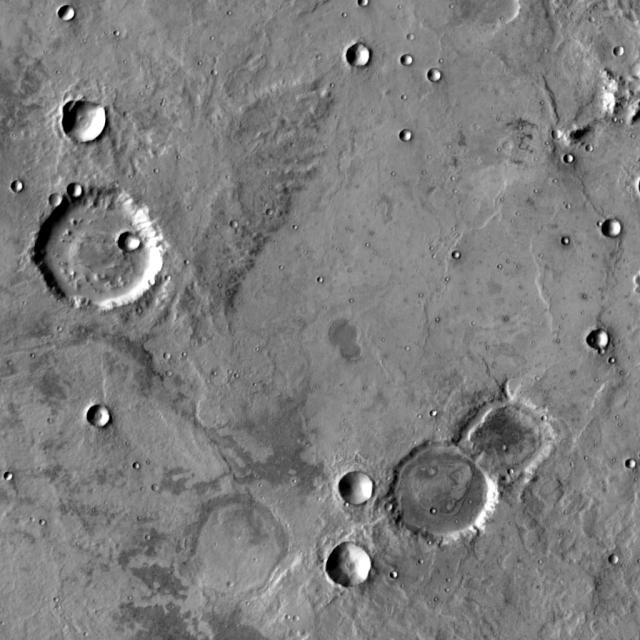crater: (43, 189, 171, 312), (395, 445, 503, 548), (194, 496, 302, 599), (464, 397, 558, 487), (334, 544, 380, 588), (70, 102, 114, 144), (469, 0, 528, 31), (347, 473, 381, 506), (336, 320, 366, 350), (353, 44, 378, 67), (95, 405, 118, 428), (126, 232, 148, 253), (347, 342, 369, 362), (595, 331, 616, 351), (609, 222, 629, 240), (74, 184, 90, 200), (66, 8, 81, 24), (409, 54, 421, 67), (436, 70, 448, 82), (57, 196, 69, 208), (408, 131, 420, 142), (18, 183, 30, 194), (621, 48, 632, 59), (616, 555, 626, 564), (558, 131, 568, 140), (572, 156, 580, 165), (391, 504, 400, 512), (368, 0, 378, 7), (12, 474, 20, 482), (592, 145, 600, 153), (628, 454, 634, 464), (462, 252, 469, 260), (570, 239, 578, 246), (132, 456, 140, 463), (391, 565, 398, 572), (408, 27, 415, 34), (237, 221, 244, 228), (266, 202, 272, 210), (430, 405, 438, 411), (152, 478, 159, 484), (164, 347, 171, 353), (293, 610, 300, 616), (590, 11, 596, 17), (610, 352, 616, 358)
